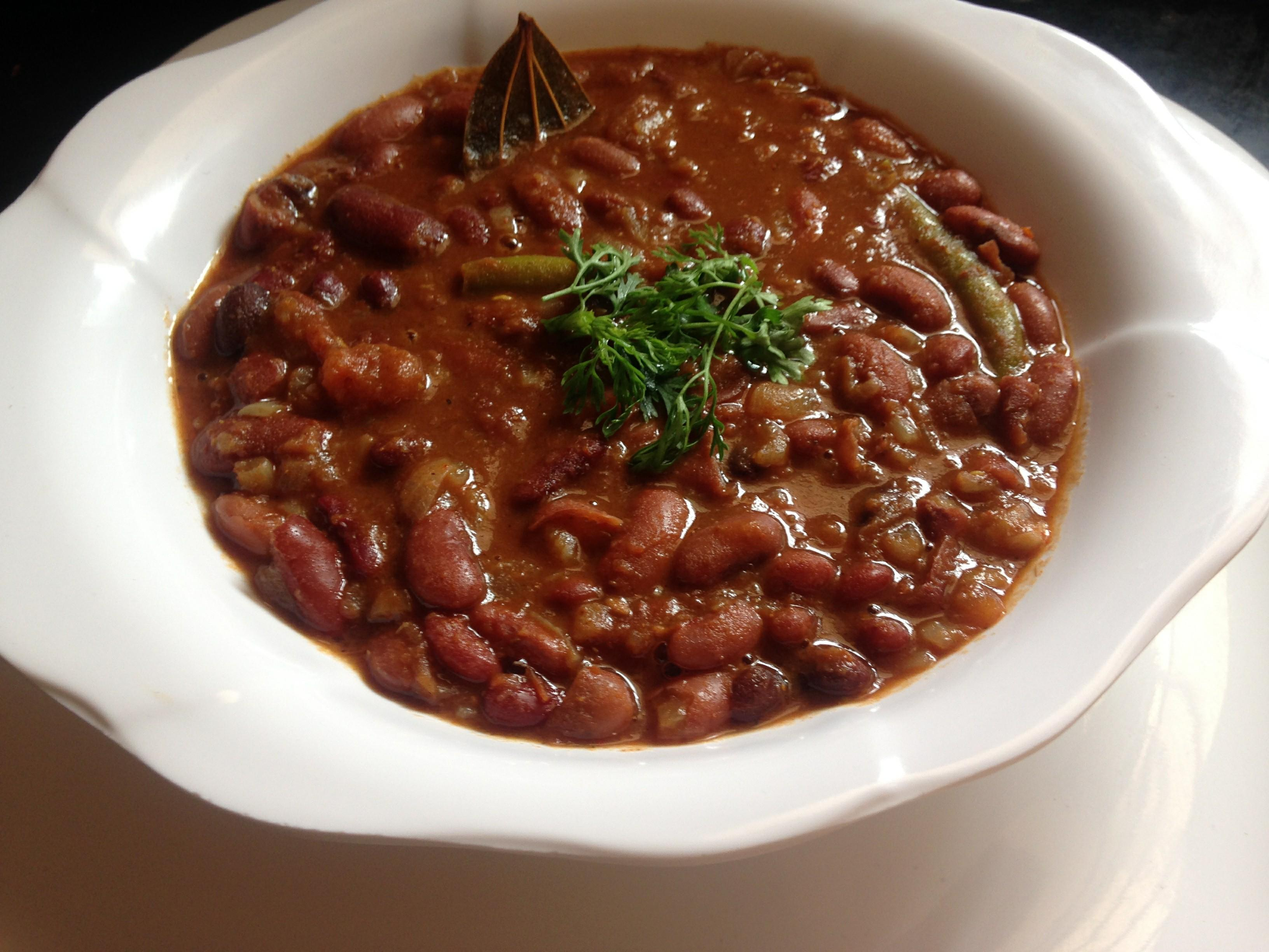RajmaCurry: (178, 42, 1073, 743)
